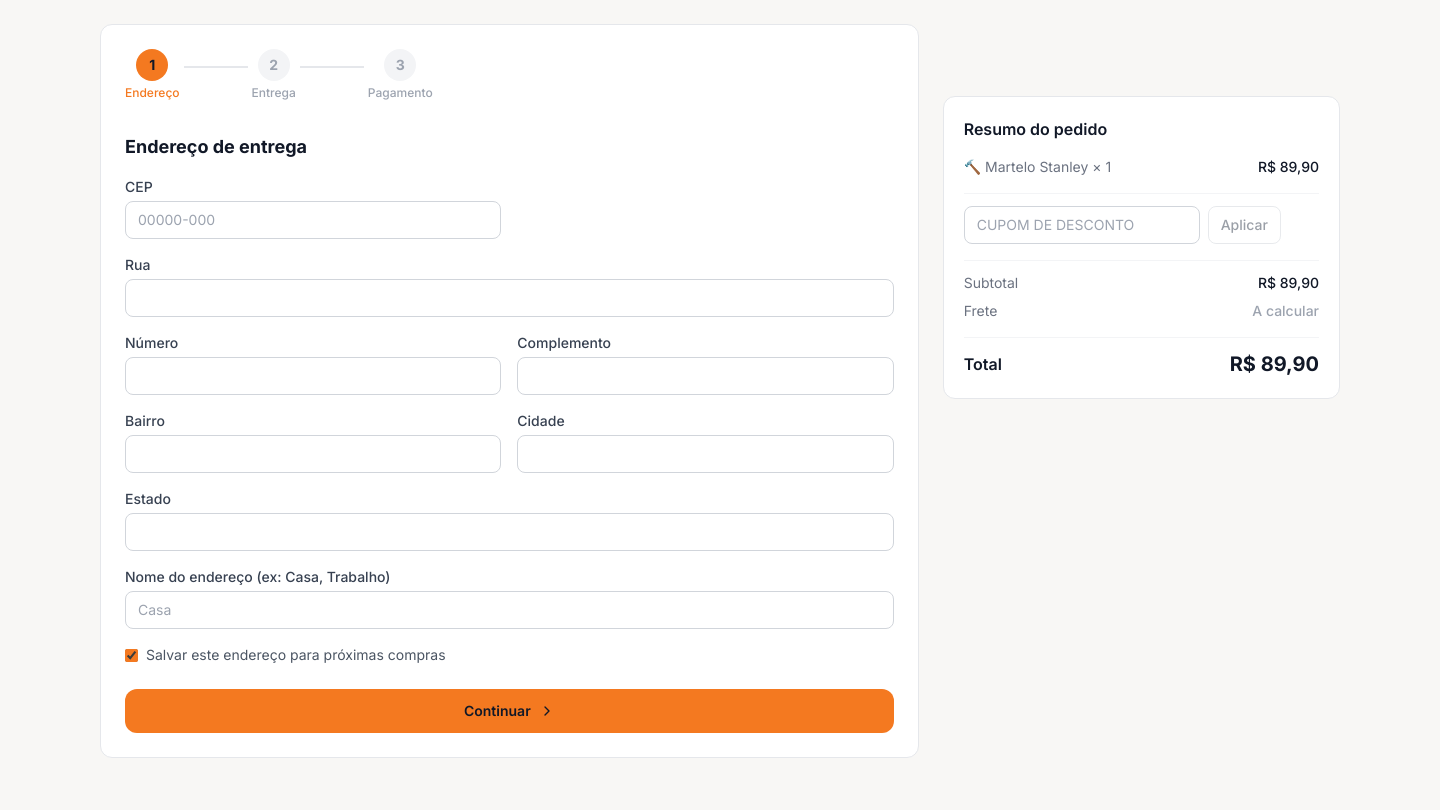
Test case: CheckoutPage — passo endereço › avança para entrega ao preencher endereço
The width and height of the screenshot is (1440, 810).
In the field labelled "CEP": (313, 220) [125,201,501,239], type "01310-100"
In the field labelled "Rua": (509, 298) [125,279,894,317], type "Av Paulista"
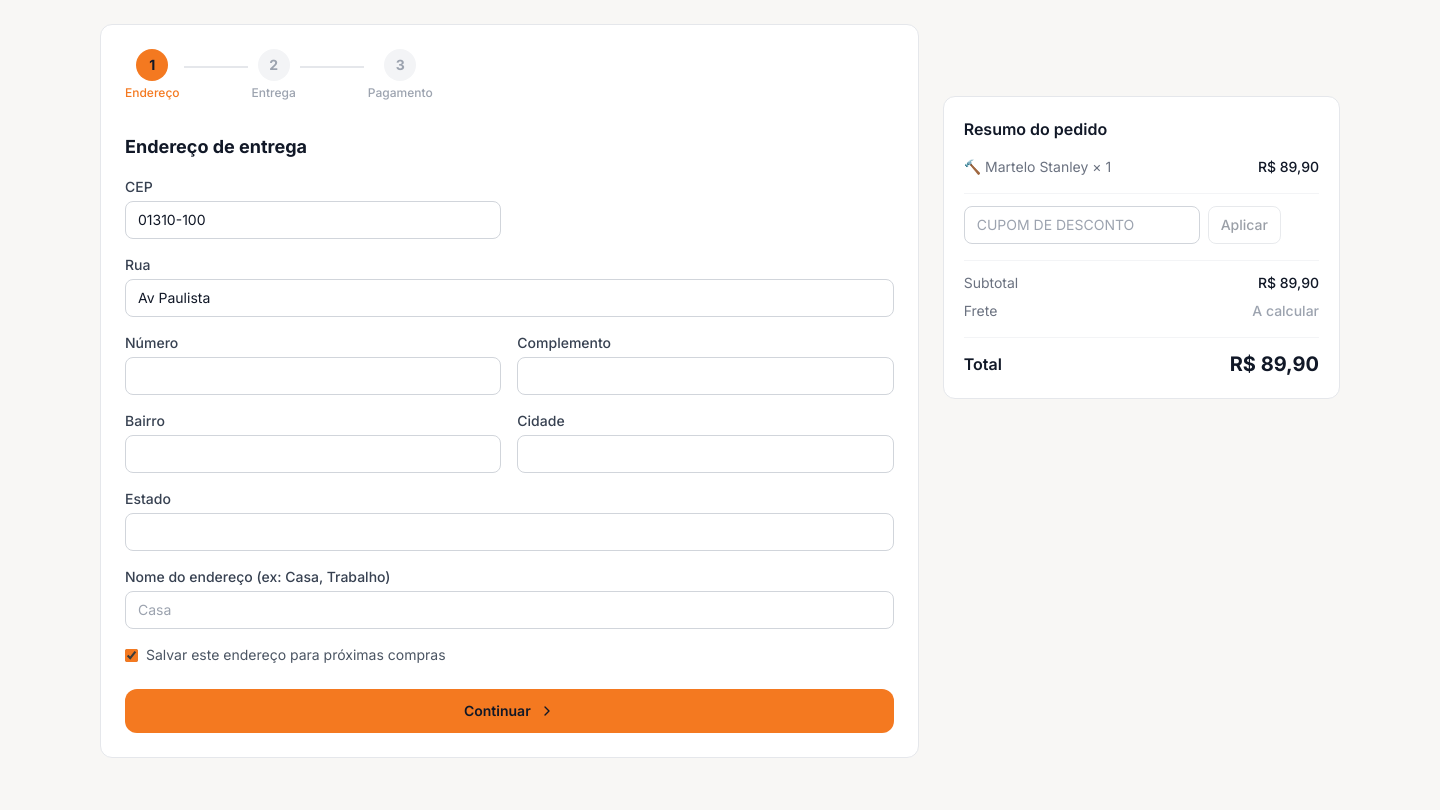
In the field labelled "Número": (313, 376) [125,357,501,395], type "100"
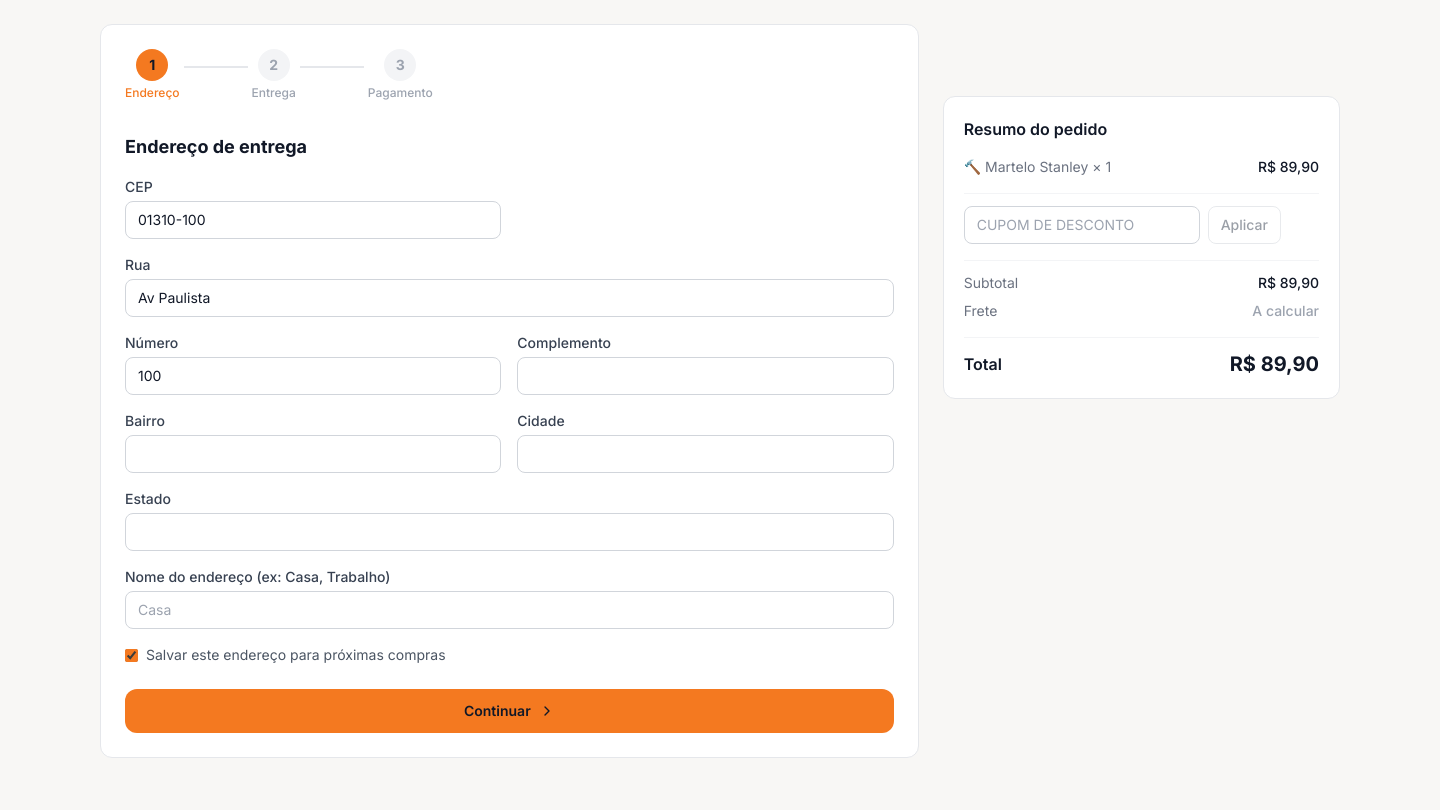
In the field labelled "Bairro": (313, 454) [125,435,501,473], type "Bela Vista"
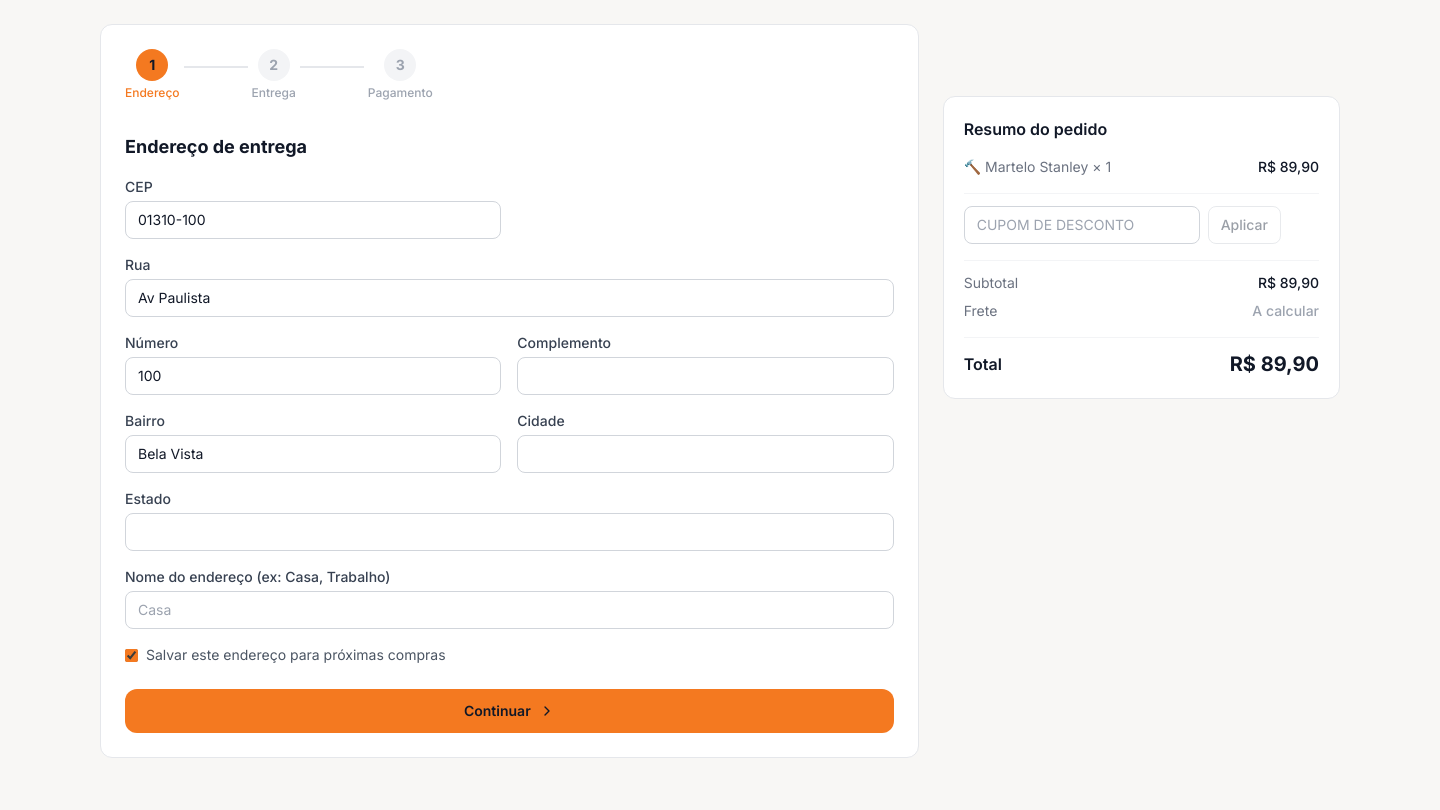
In the field labelled "Cidade": (705, 454) [517,435,894,473], type "São Paulo"
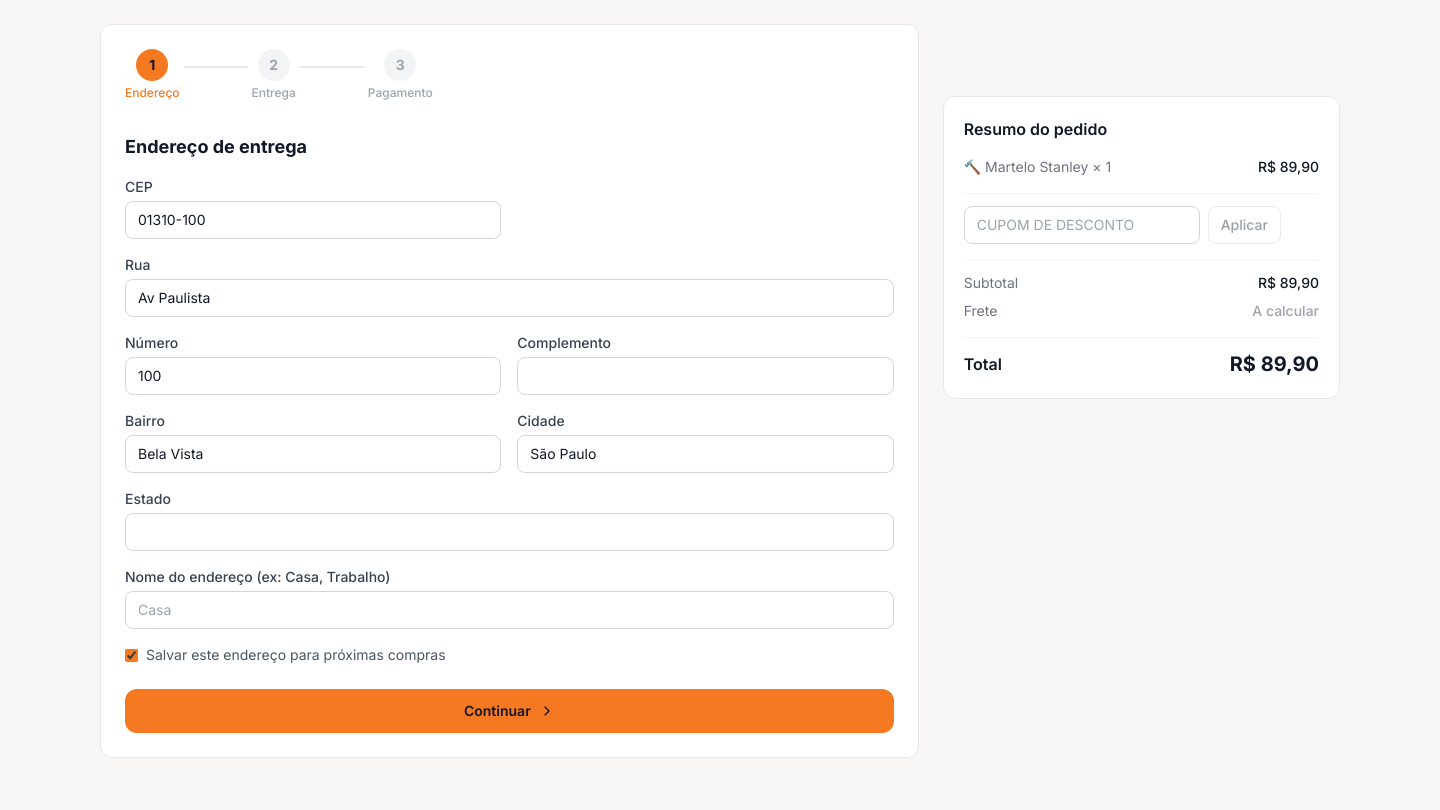
In the field labelled "Estado": (509, 532) [125,513,894,551], type "SP"
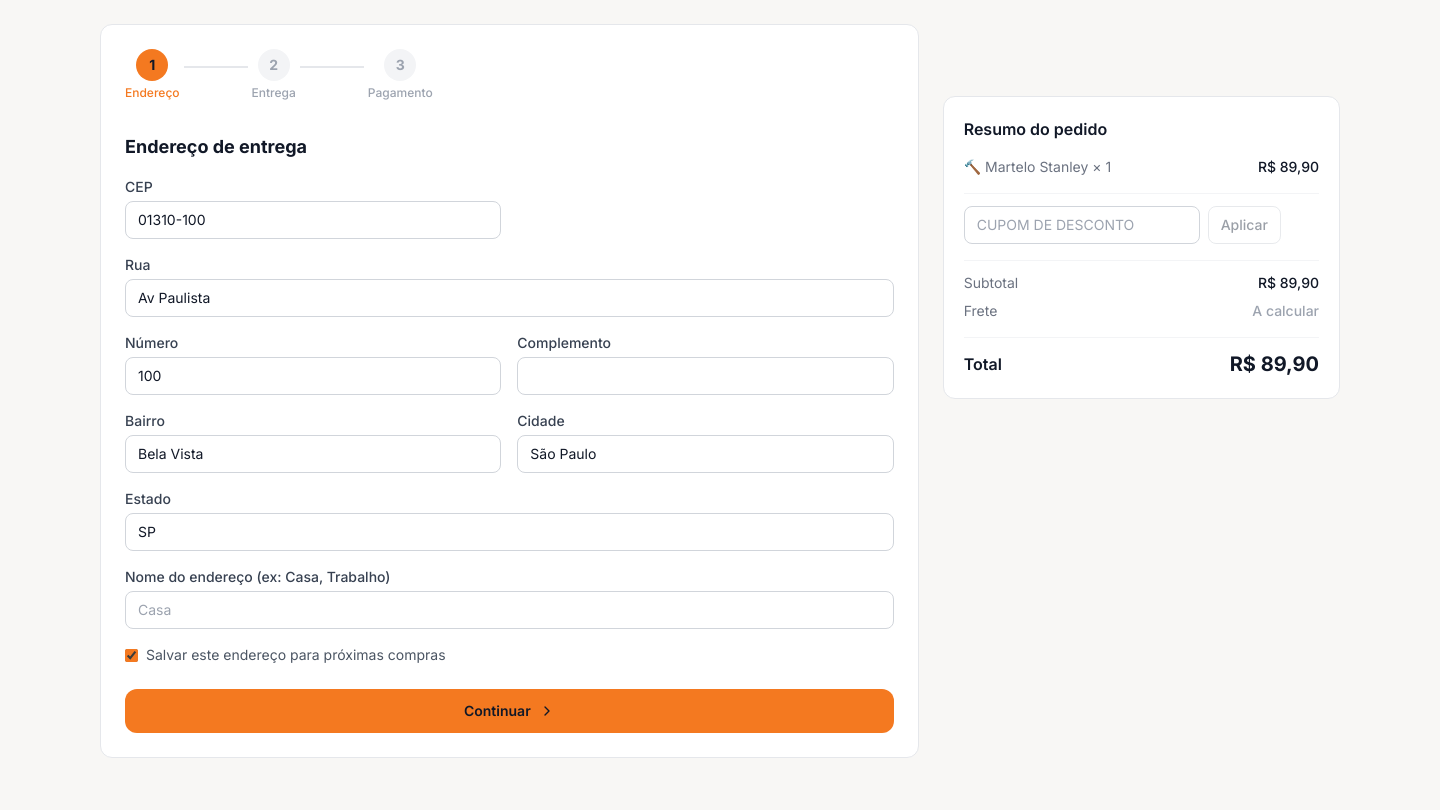
Click the button "Continuar": (509, 711) [125,689,894,733]
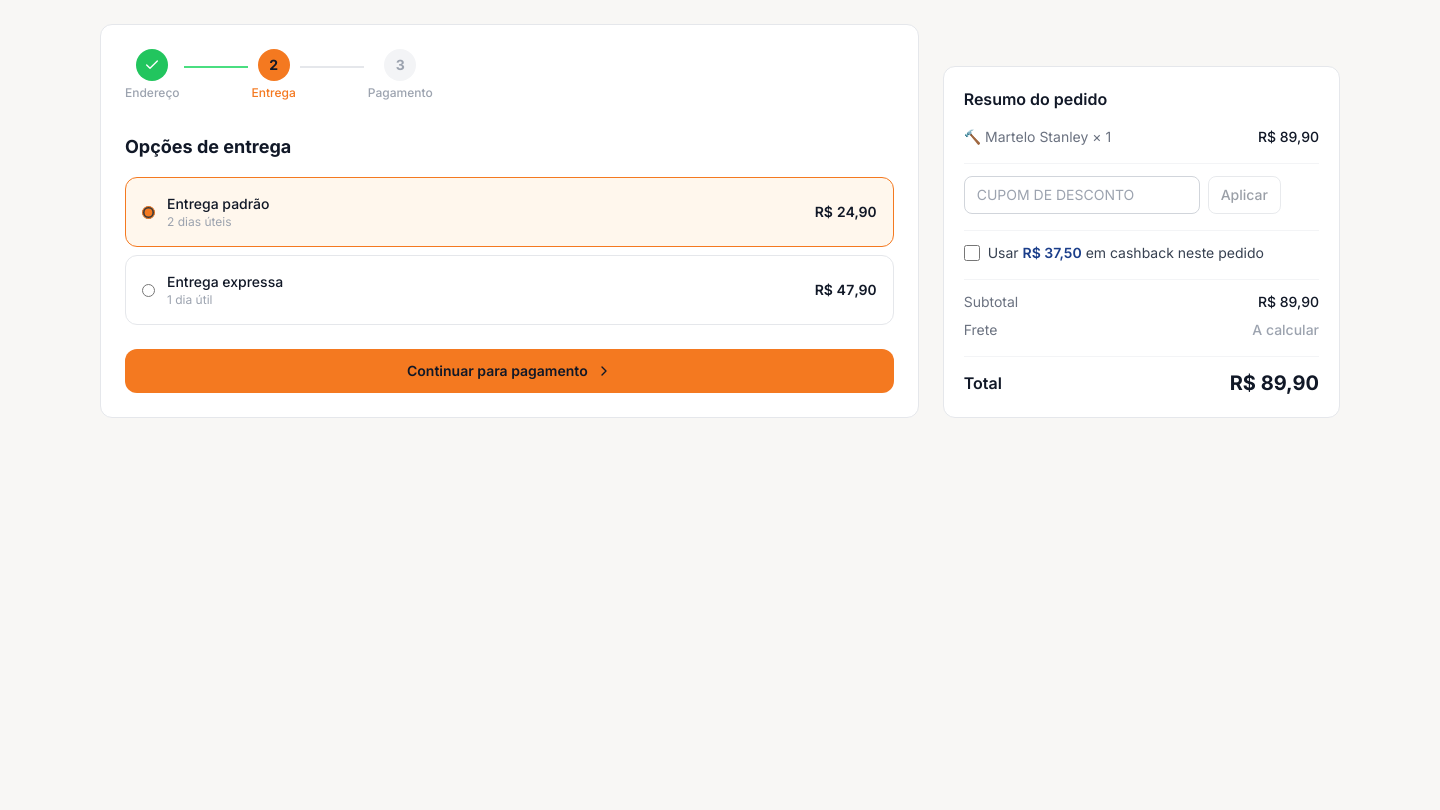
Check: the heading "Opções de entrega" is shown, box [125,136,291,157]
